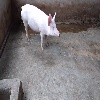heo: (18, 2, 62, 52)
